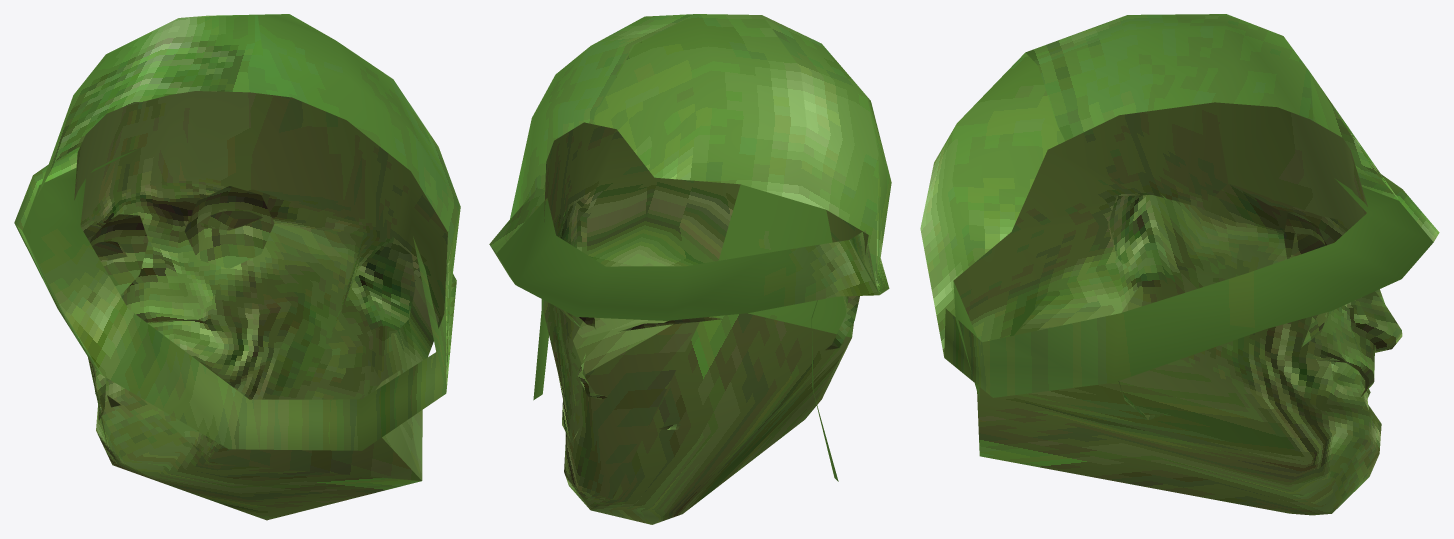
The model's file is ps2_save-icons_armymensargeswar.glb.
3 renders of one model, left to right at view 1: azimuth 30°, elevation 25°; view 2: azimuth 150°, elevation 25°; view 3: azimuth 270°, elevation 25°, orthographic. The views are drawn at different scales.
Parts seen in each view (by area): view 1: a.ico; view 2: a.ico; view 3: a.ico.
Boxes of the visible parts, x1,y1,x2,y2 form: a.ico: [14, 14, 460, 520]; a.ico: [489, 14, 891, 524]; a.ico: [920, 14, 1439, 515].
Size of the model in its own units: 2.23 by 2.8 by 2.84.
Materials: 1 (1 with a texture image).
